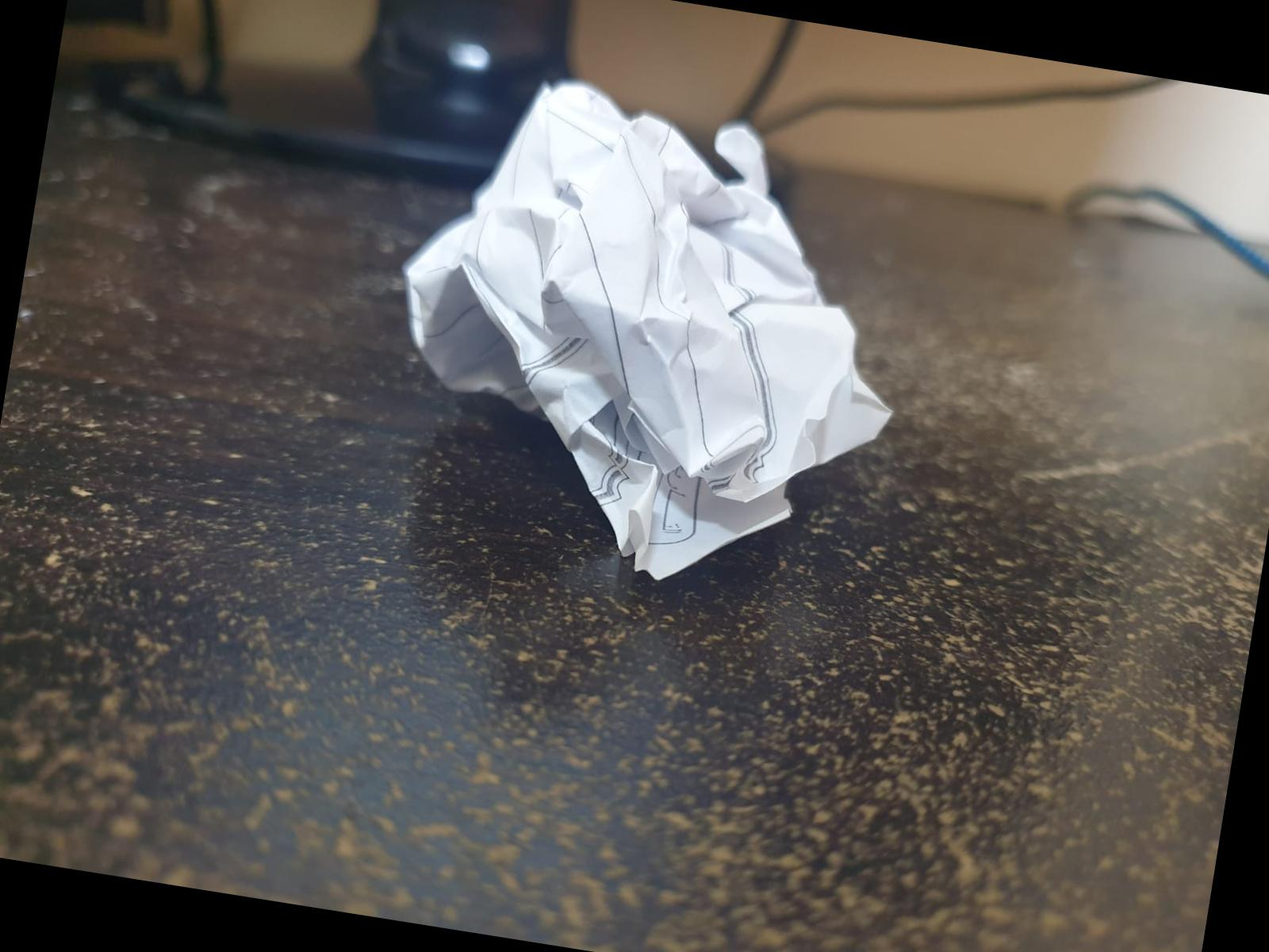Kertas: (406, 80, 888, 557)
